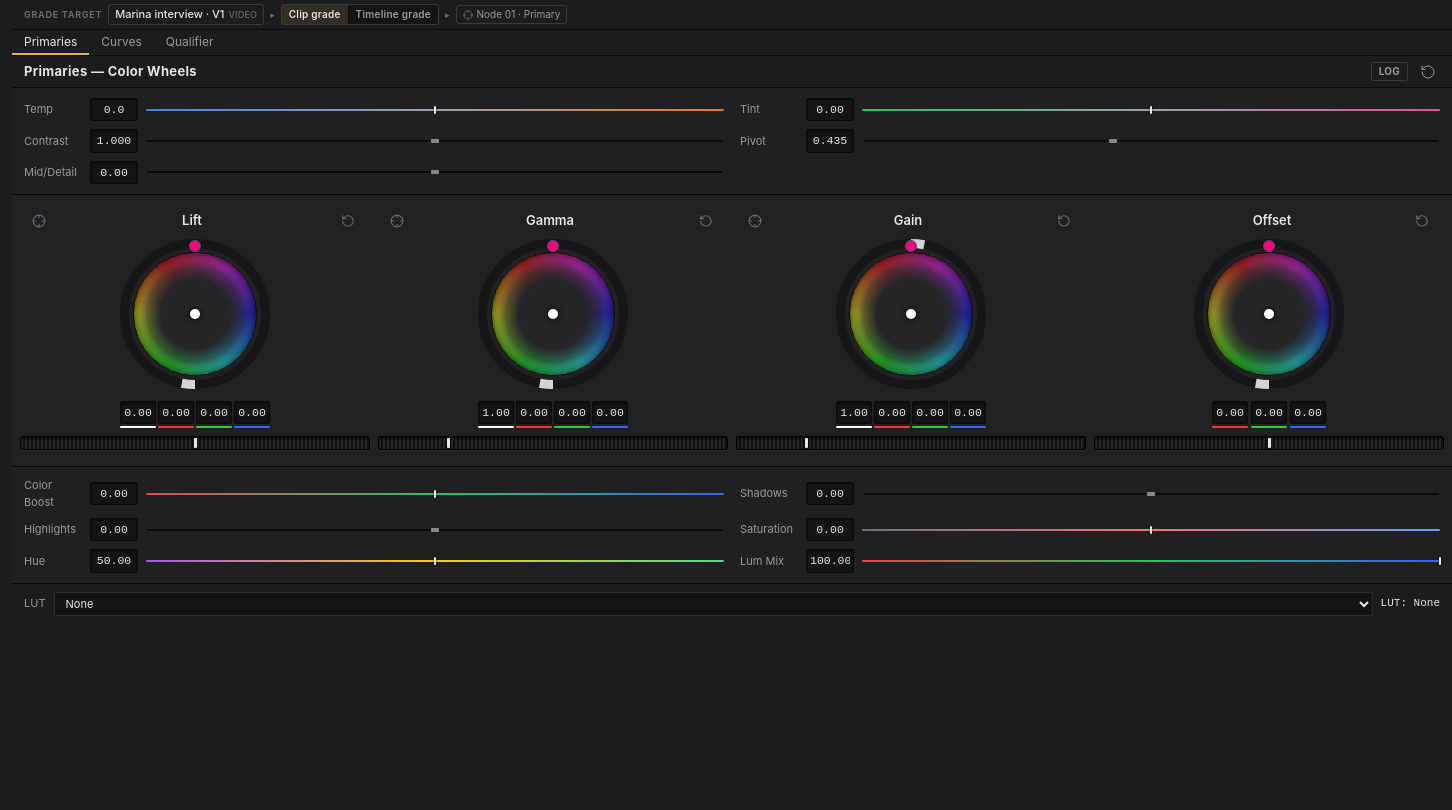
Scenario: R25-W3 (A2): the GRADE TARGET breadcrumb — [scope] ▸ [level] ▸ [node] › the segmented control commits the level through the EXISTING store seam (setColorGradeTarget)
What coordinates should you click on to do the following:
click the button with test id "shell-color-inspector-target-timeline"
I would click on:
 (393, 14)
Its box is [348,5,438,24].
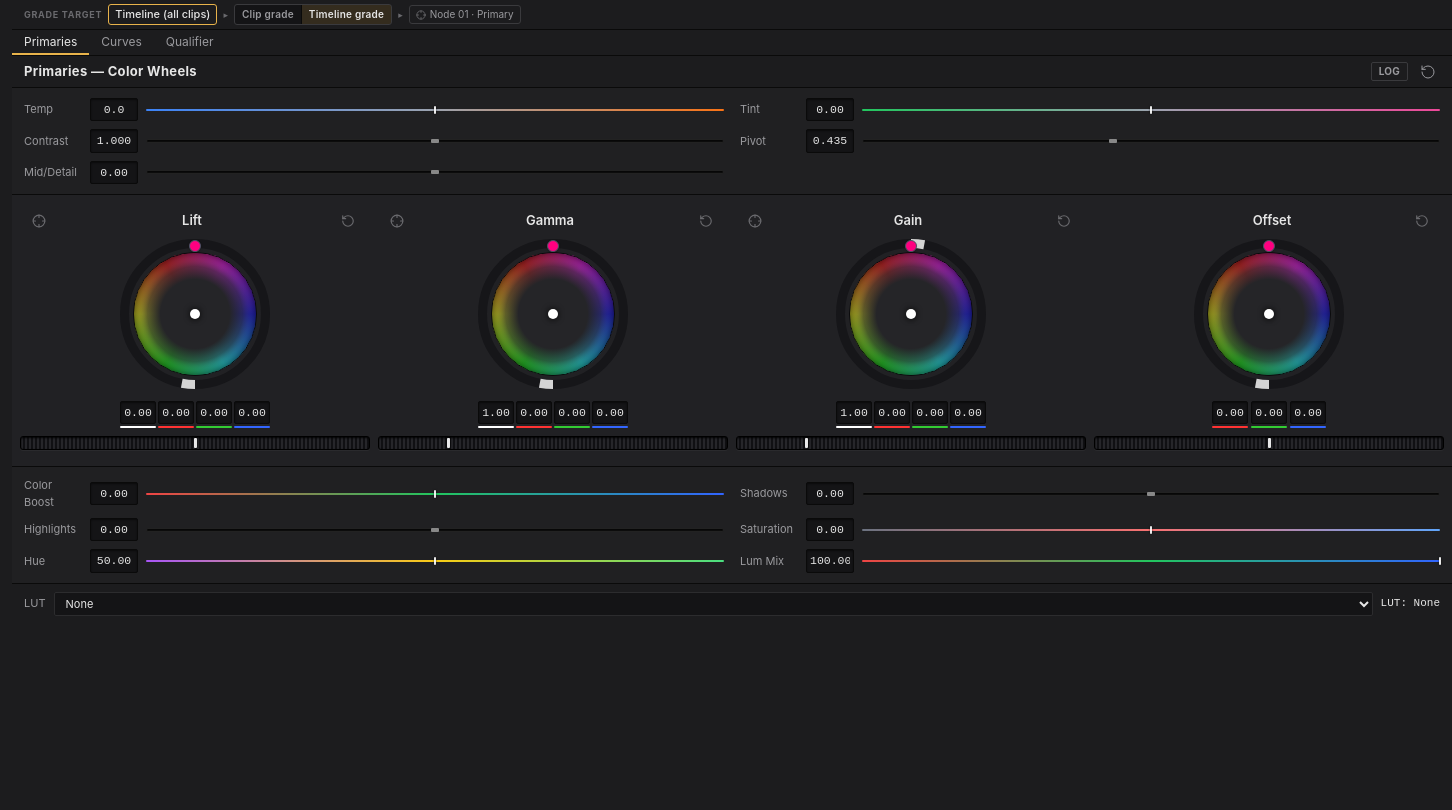
Now the element with test id "shell-color-inspector-chip" reads "Timeline (all clips)", box [115,7,210,21]
What coordinates should you click on to do the following:
click the button with test id "shell-color-inspector-target-clip"
I would click on:
 (268, 14)
Its box is [235,5,301,24].
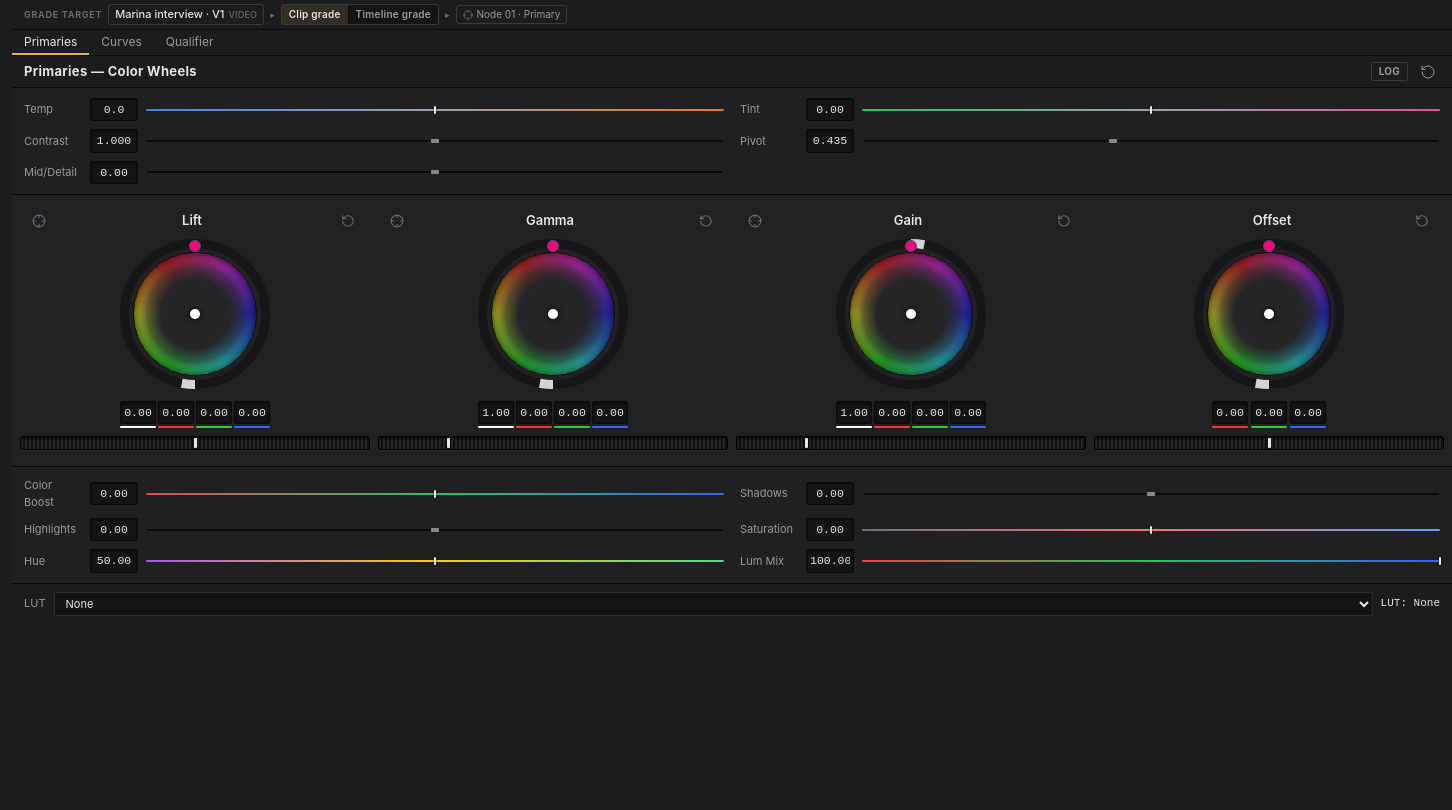
Now the element with test id "shell-color-inspector-chip" shows "Marina interview · V1", box [115,7,224,21]
